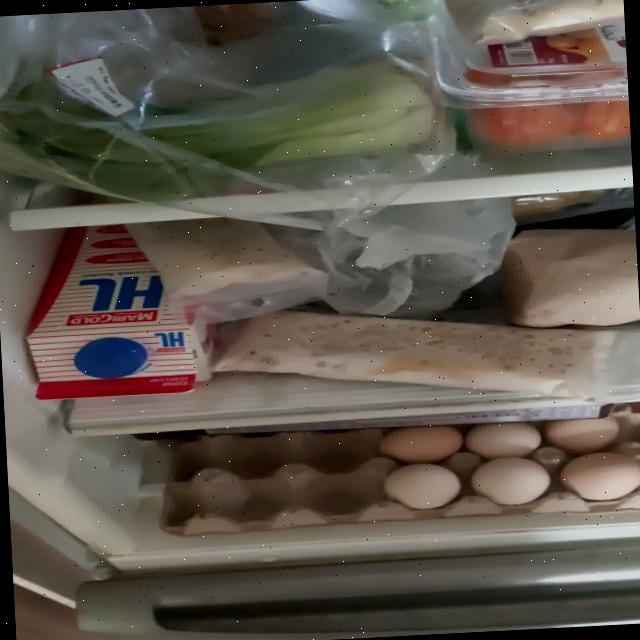egg: (155, 415, 640, 537)
pakchoy: (4, 64, 435, 204)
tempeh: (208, 292, 621, 419), (124, 212, 328, 304)
